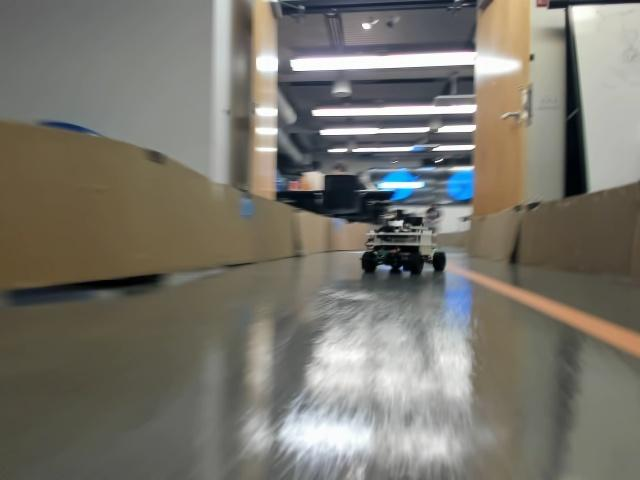Car: (361, 216, 445, 273)
